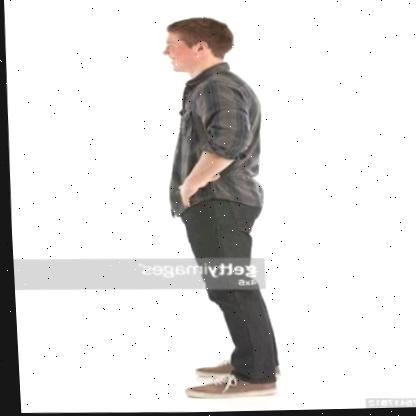person: (151, 3, 292, 413)
